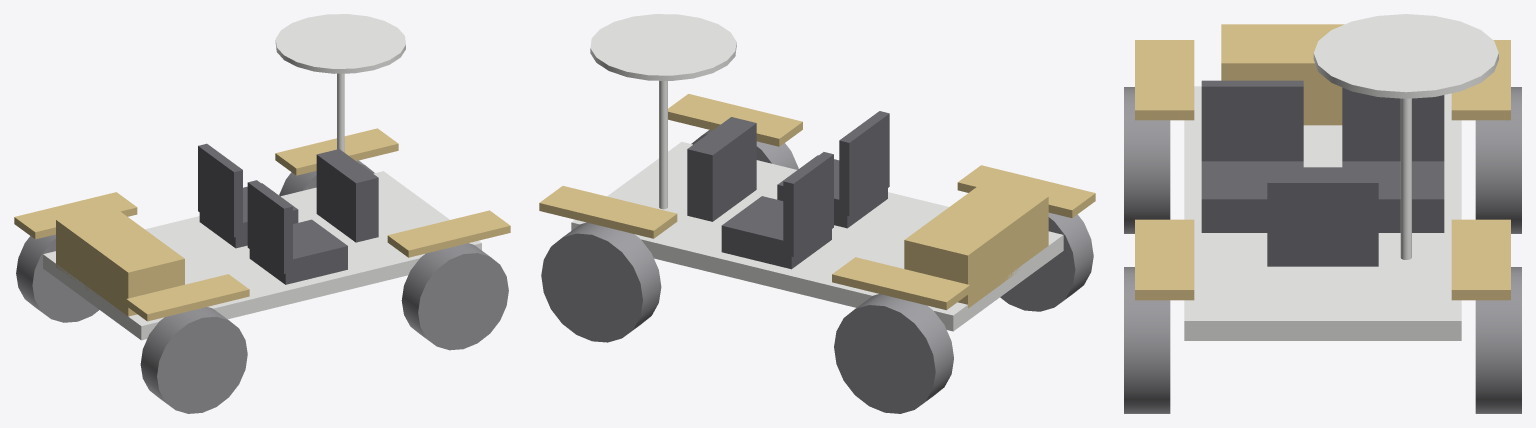
Rendered from lrv.glb.
The picture shows the model from 3 angles, left to right: view 1: azimuth 30°, elevation 25°; view 2: azimuth 150°, elevation 25°; view 3: azimuth 270°, elevation 25°; orthographic projection. The views are drawn at different scales.
Parts seen in each view (by area): view 1: rover; view 2: rover; view 3: rover.
Boxes of the visible parts, <box> form: rover: <box>14,14,510,413</box>; rover: <box>539,14,1095,413</box>; rover: <box>1124,14,1521,413</box>.
Bounding box in the file's own units: 3.2 × 2.02 × 2.15.
